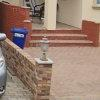stairs: (32, 28, 94, 50)
